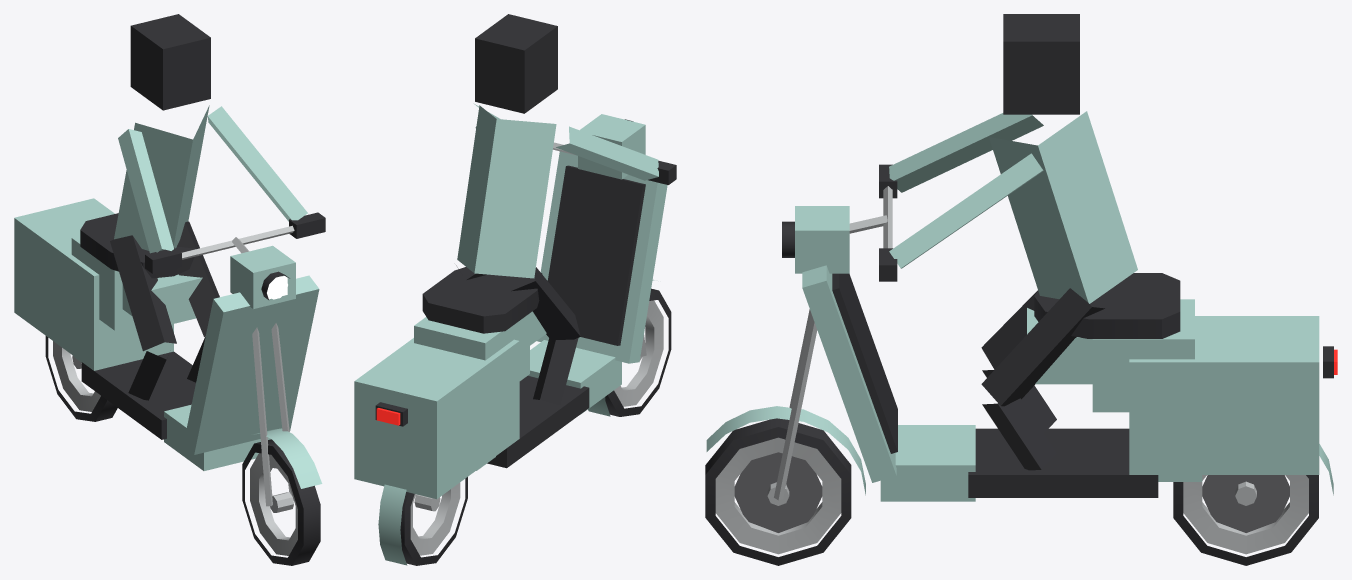
The model's file is scooter_lod1.glb.
3 renders of one model, left to right at view 1: azimuth 30°, elevation 25°; view 2: azimuth 150°, elevation 25°; view 3: azimuth 270°, elevation 25°, orthographic. The views are drawn at different scales.
Parts seen in each view (by area): view 1: scooter_lod1; view 2: scooter_lod1; view 3: scooter_lod1.
Boxes of the visible parts, box(x1,y1,x2,y2) form: scooter_lod1: box(14, 14, 325, 565); scooter_lod1: box(354, 14, 676, 565); scooter_lod1: box(705, 14, 1337, 565).
Bounding box in the file's own units: 0.0325 × 0.0805 × 0.0865.
